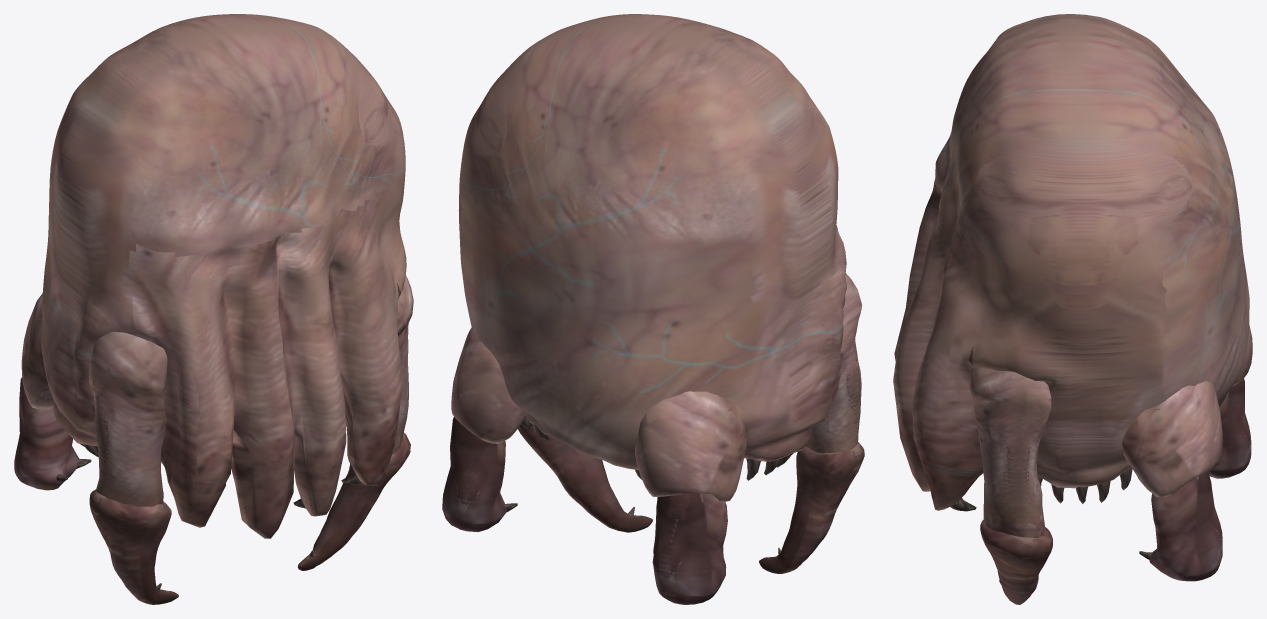
The model's file is headcrab.glb.
3 renders of one model, left to right at view 1: azimuth 30°, elevation 25°; view 2: azimuth 150°, elevation 25°; view 3: azimuth 270°, elevation 25°, orthographic.
Visible parts, largest first — view 1: Crab; view 2: Crab; view 3: Crab.
Part boxes in pixels (x1,y1,x2,y2): Crab: [14, 14, 413, 604]; Crab: [442, 14, 864, 604]; Crab: [893, 14, 1252, 604].
Bounding box in the file's own units: 0.5541 × 0.8354 × 0.5103.
1 material, 1 textured.
